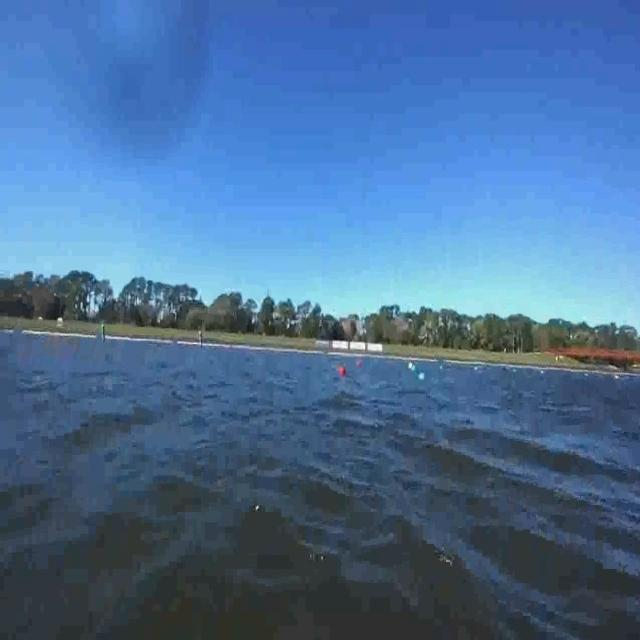red-buoy: (336, 364, 346, 377)
